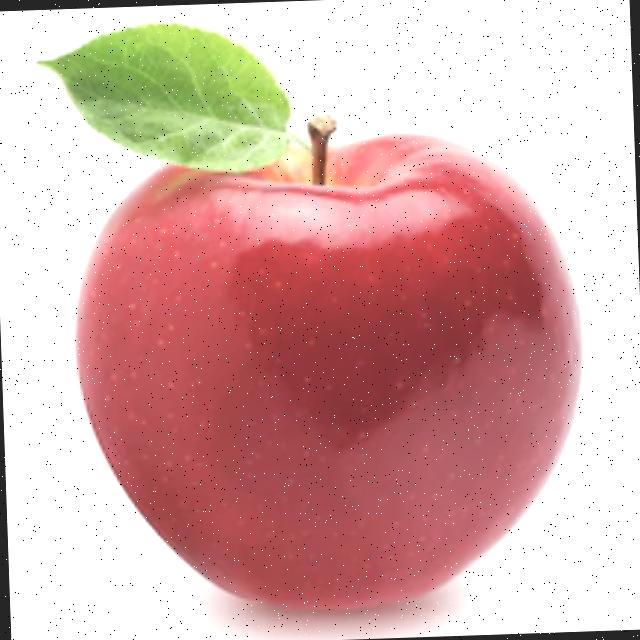Ripe: (56, 116, 595, 624)
